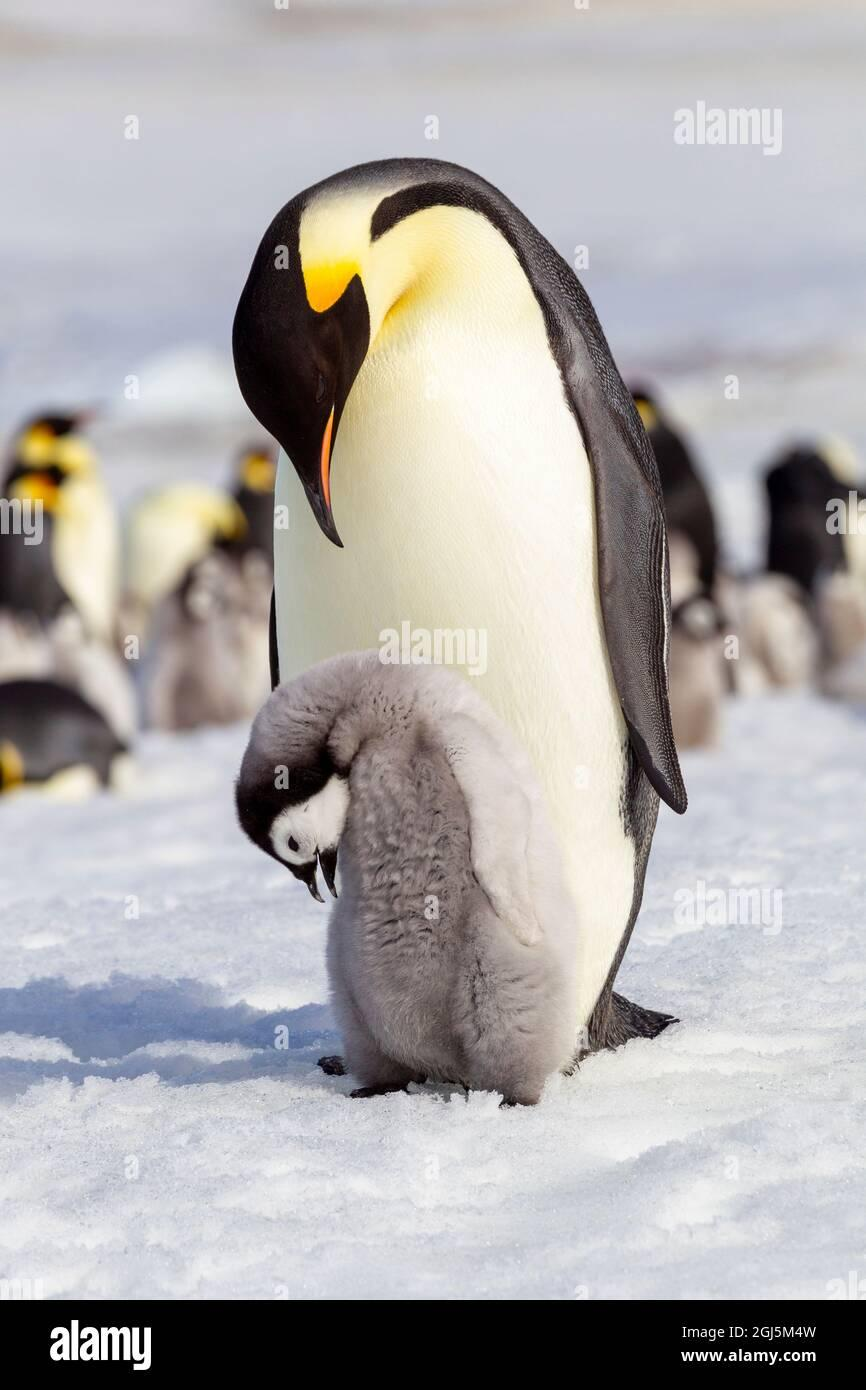emporer: (168, 113, 779, 1110)
